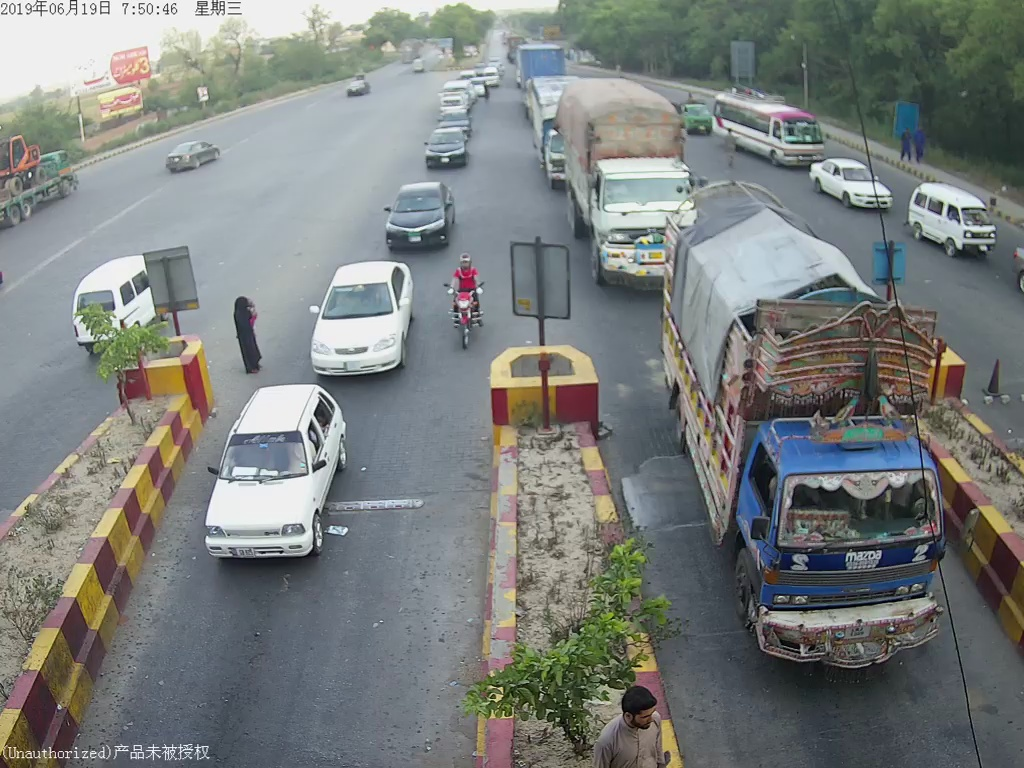Cat-1: (204, 381, 353, 559), (308, 259, 414, 381), (379, 174, 457, 253), (419, 123, 469, 168)
Cat-2: (662, 177, 962, 662)
Cat-4: (557, 84, 700, 288)
